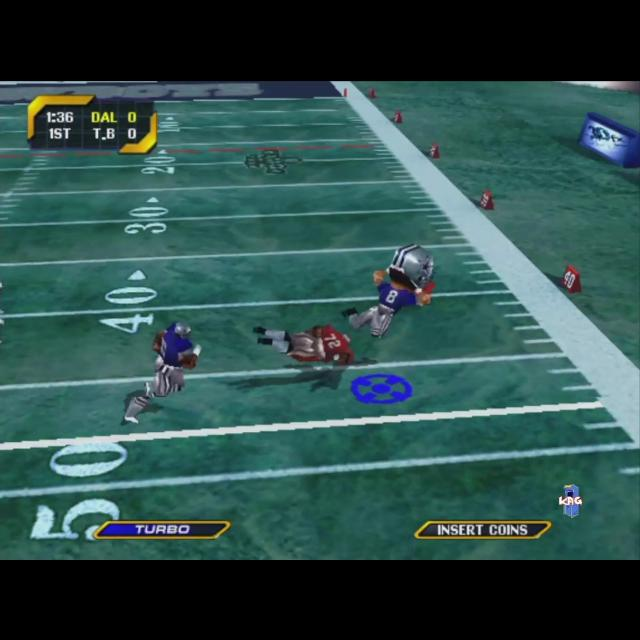player: (341, 243, 435, 337), (125, 321, 202, 422), (252, 323, 354, 363)
